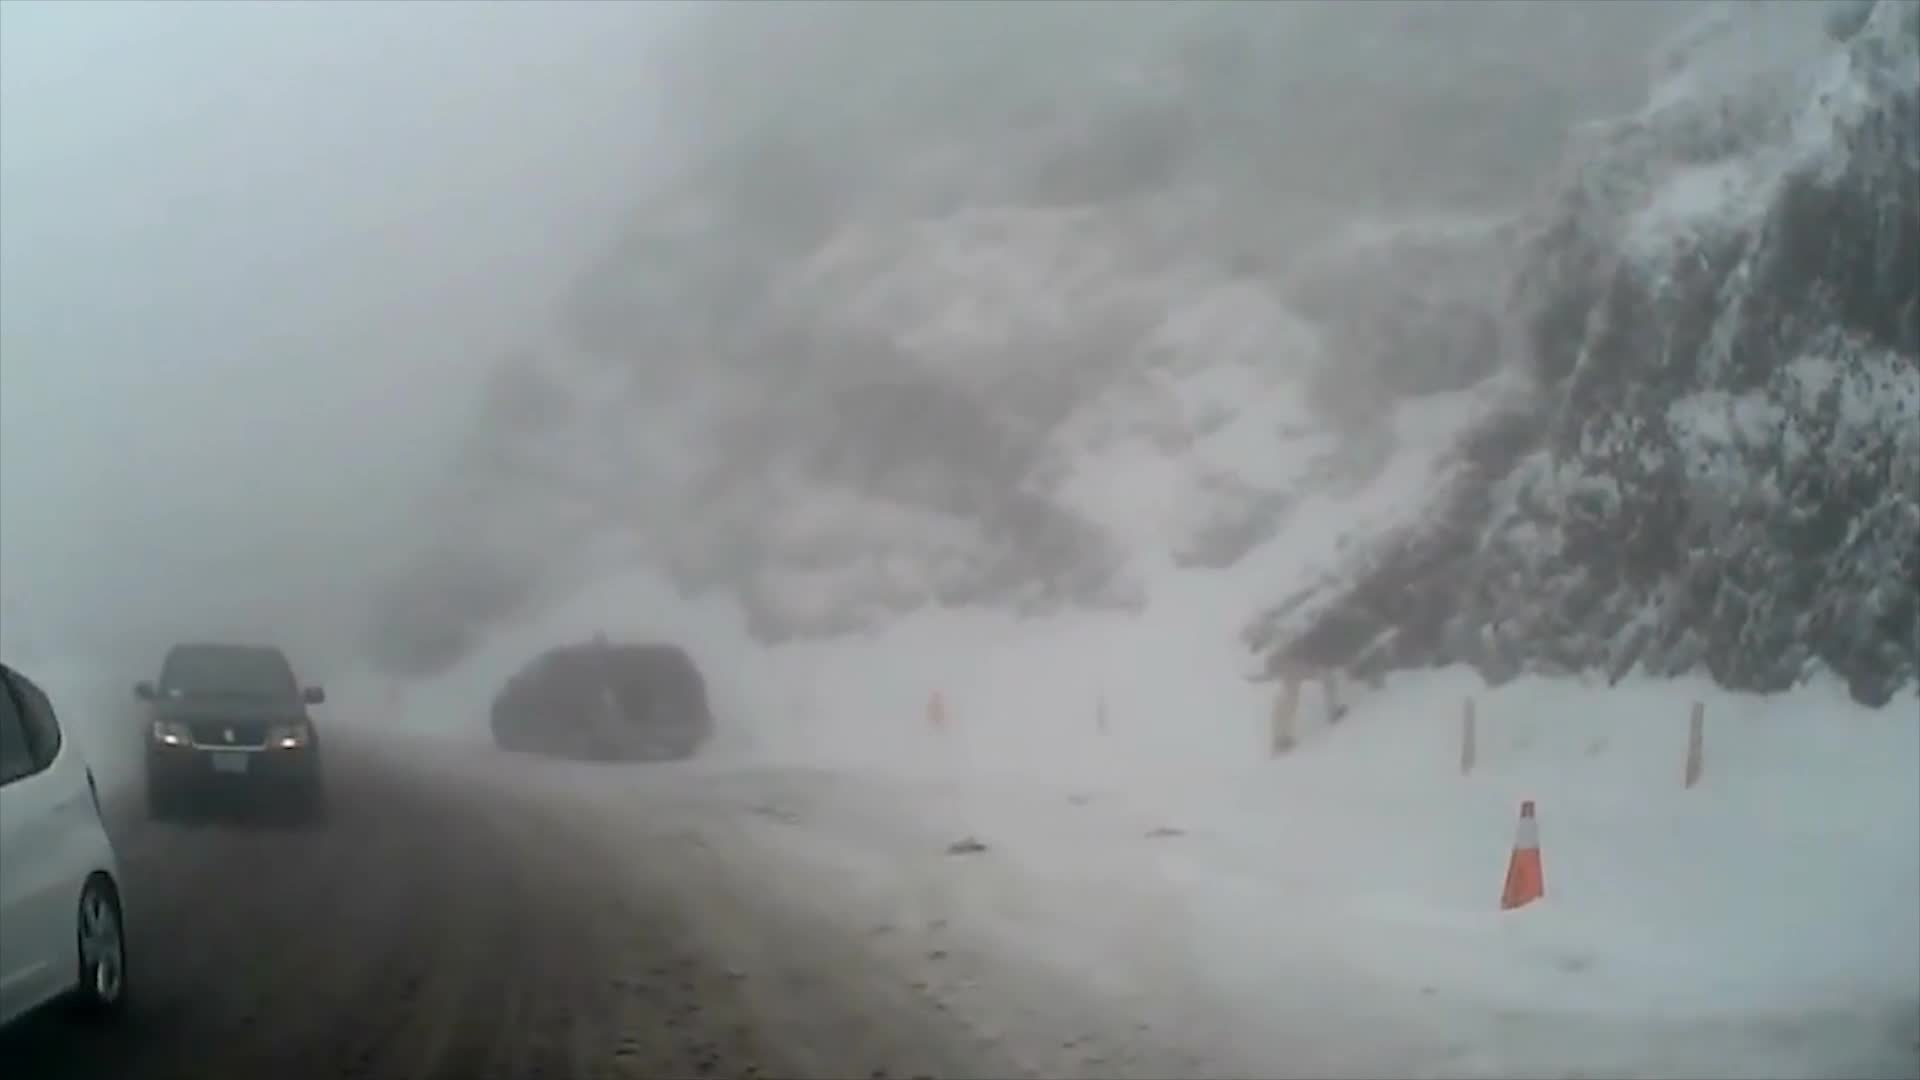vehicle: (0, 647, 133, 1036), (129, 638, 328, 822), (484, 625, 705, 750)
